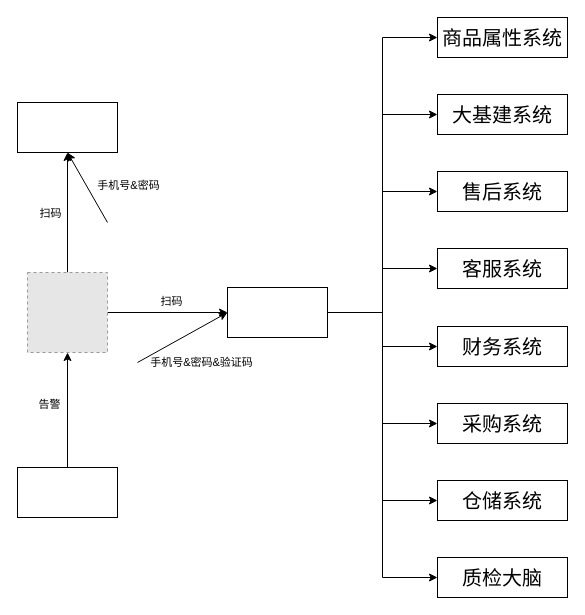
The diagram is 585 pixels wide and 615 high, and some of its shapes have lost their labels. Grey dashed boxes stand in for pictures. Each missing label, with the box of its shape:
ZljOA: (16, 102, 118, 152)
权限系统: (226, 286, 328, 338)
邮寄回收: (16, 466, 118, 518)
